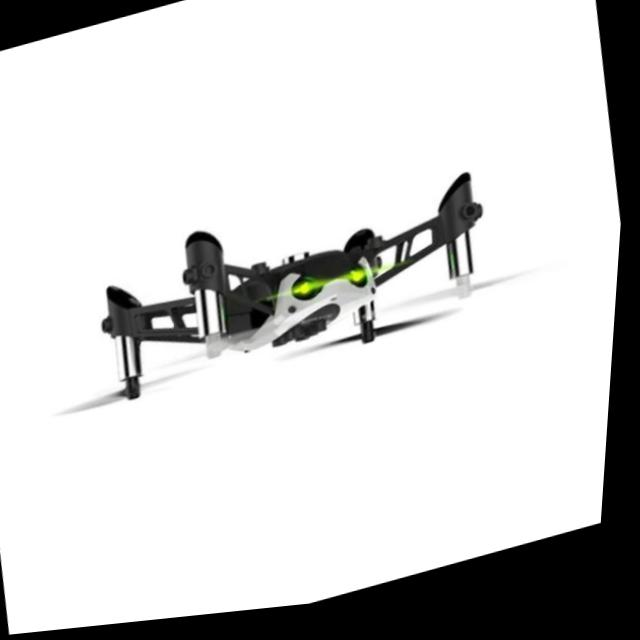drones: (27, 117, 554, 453)
